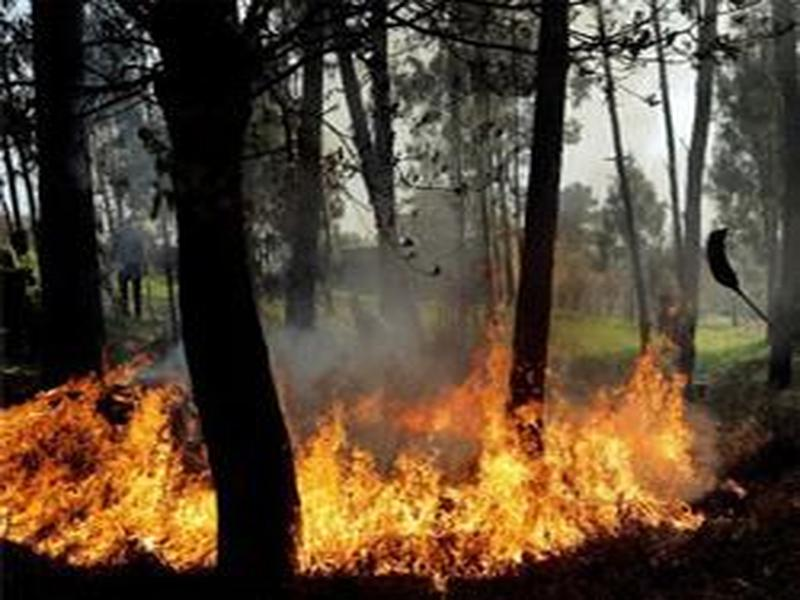FIRE: (11, 315, 770, 583)
